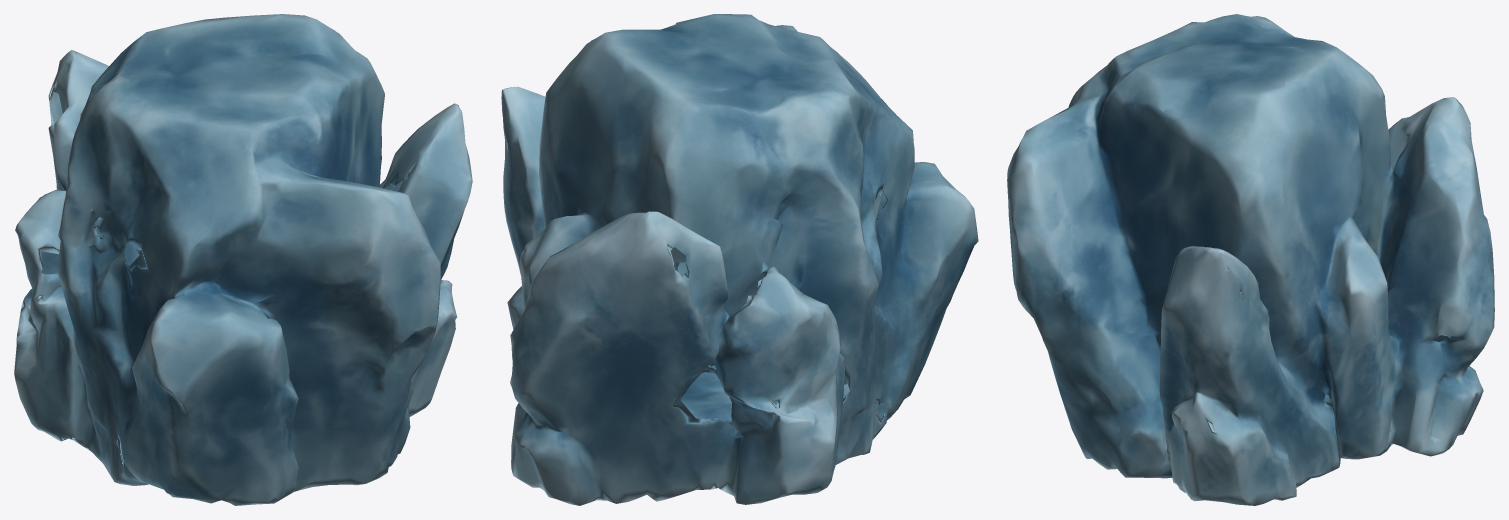
Rendered from led-glyba-kristallicheskaya.glb.
The picture shows the model from 3 angles, left to right: view 1: azimuth 30°, elevation 25°; view 2: azimuth 150°, elevation 25°; view 3: azimuth 270°, elevation 25°; orthographic projection. The views are drawn at different scales.
Visible parts, largest first — view 1: geometry_0; view 2: geometry_0; view 3: geometry_0.
Boxes of the visible parts, left/top/right/bottom form: geometry_0: left=14, top=14, right=472, bottom=505; geometry_0: left=501, top=14, right=978, bottom=505; geometry_0: left=1007, top=14, right=1494, bottom=505.
Size of the model in its own units: 0.8865 by 0.8722 by 1.
1 material, 1 textured.
